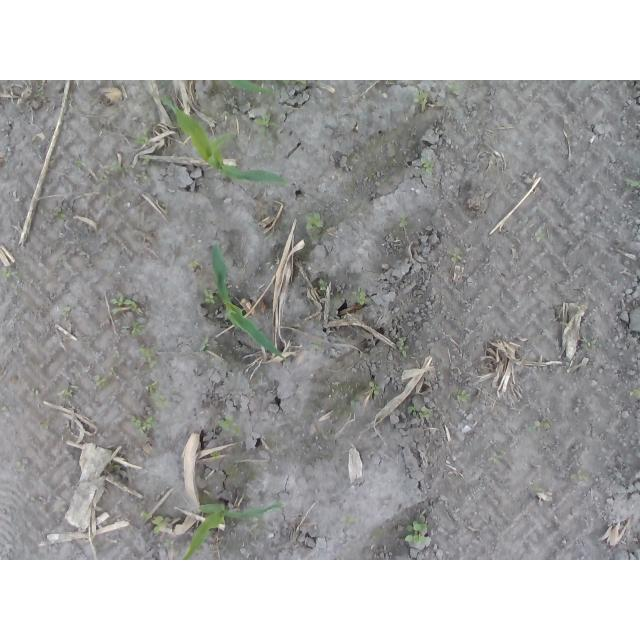Maize: (159, 94, 289, 187), (213, 241, 288, 362), (179, 504, 285, 561)
Weeds: (141, 512, 172, 536), (403, 522, 429, 547), (147, 381, 170, 407), (136, 131, 148, 180), (109, 296, 138, 315), (217, 414, 242, 434), (102, 165, 135, 180), (128, 417, 154, 436), (92, 372, 118, 389), (525, 421, 551, 435), (254, 114, 275, 131), (408, 405, 433, 419), (305, 214, 324, 232), (137, 346, 154, 366), (446, 248, 462, 264), (395, 339, 409, 357), (446, 82, 466, 94), (58, 386, 78, 398), (203, 288, 217, 305), (52, 208, 69, 221), (353, 290, 371, 302), (125, 323, 140, 337), (413, 91, 427, 106), (422, 158, 434, 174), (2, 268, 19, 279), (626, 177, 640, 190), (340, 517, 356, 528), (458, 390, 470, 403), (629, 388, 640, 400), (201, 338, 212, 350), (400, 215, 408, 230), (319, 280, 329, 292), (163, 539, 175, 549), (371, 382, 381, 394), (576, 476, 589, 485), (535, 228, 542, 243), (493, 455, 503, 464), (61, 306, 67, 320), (16, 462, 25, 471)
